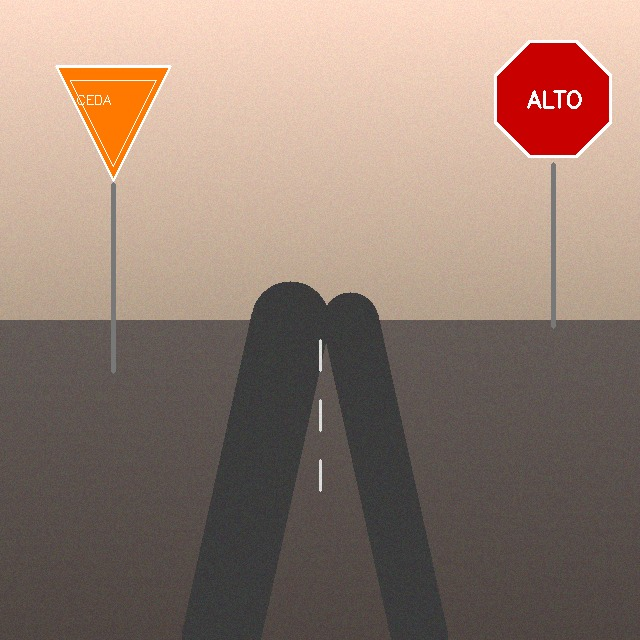alto: (489, 35, 618, 164)
ceda_el_paso: (52, 62, 174, 184)
